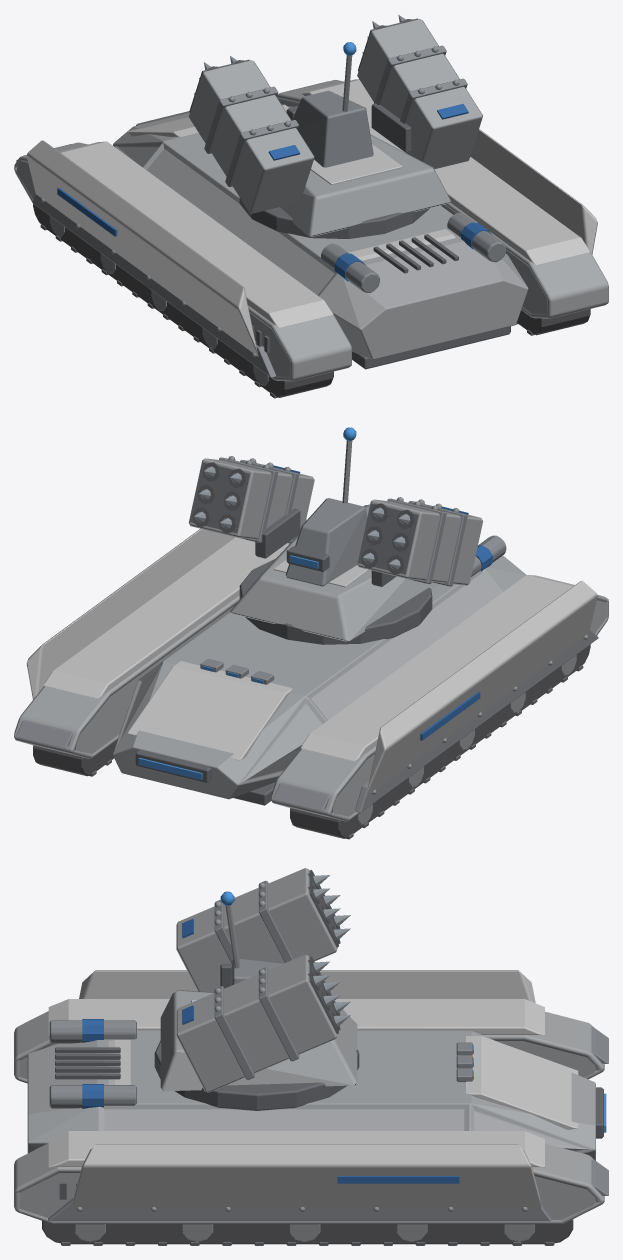
File: lattice_missile_tank.glb
The picture shows the model from 3 angles, top to bottom: view 1: azimuth 30°, elevation 25°; view 2: azimuth 150°, elevation 25°; view 3: azimuth 270°, elevation 25°; orthographic projection. The views are drawn at different scales.
Visible parts, largest first — view 1: Body, Turret; view 2: Body, Turret; view 3: Body, Turret.
Boxes of the visible parts, box(x1,y1,x2,y2) form: Body: box(14, 79, 608, 398); Turret: box(188, 14, 482, 238); Body: box(14, 504, 608, 839); Turret: box(188, 427, 483, 644); Body: box(14, 970, 608, 1245); Turret: box(154, 868, 359, 1110).
Bounding box in the file's own units: 1.82 × 1.24 × 2.44.
